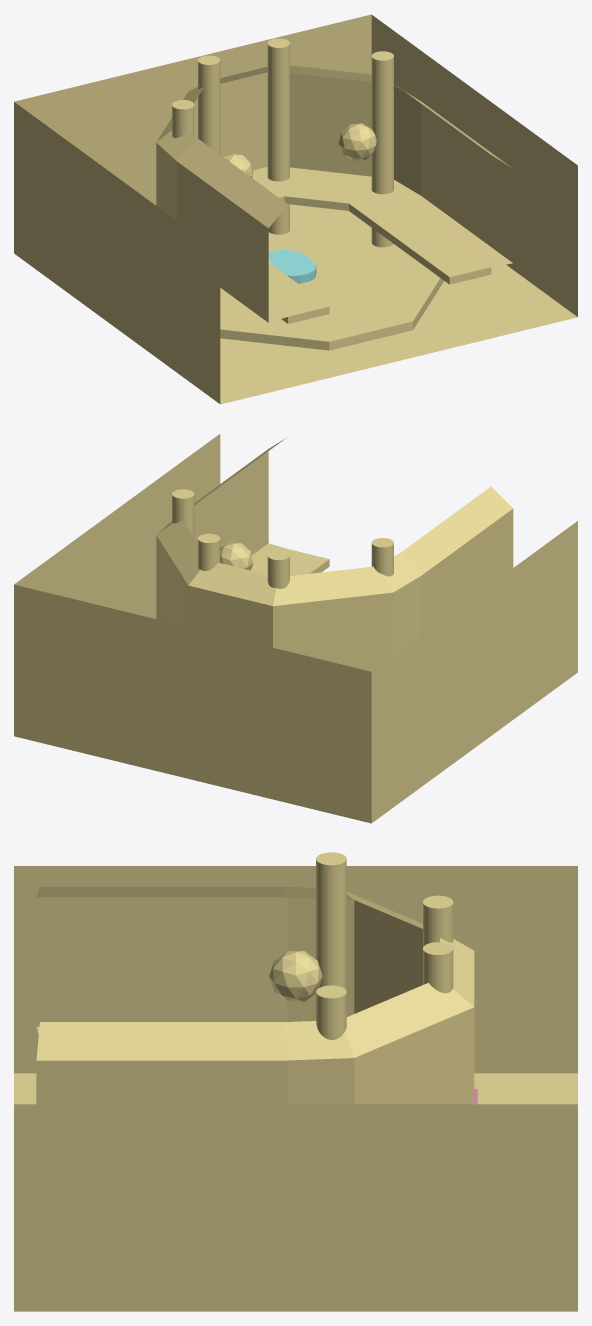
The model's file is Mall_V0.1.fbx.
The picture shows the model from 3 angles, top to bottom: view 1: azimuth 30°, elevation 25°; view 2: azimuth 150°, elevation 25°; view 3: azimuth 270°, elevation 25°; orthographic projection. The views are drawn at different scales.
Visible parts, largest first — view 1: Icosphere; view 2: Icosphere; view 3: Icosphere.
Part boxes in pixels (box(x1,y1,x2,y2)): Icosphere: box(14, 14, 577, 404); Icosphere: box(14, 434, 577, 823); Icosphere: box(14, 852, 577, 1311).
Bounding box in the file's own units: 23094 × 12263 × 23094.
